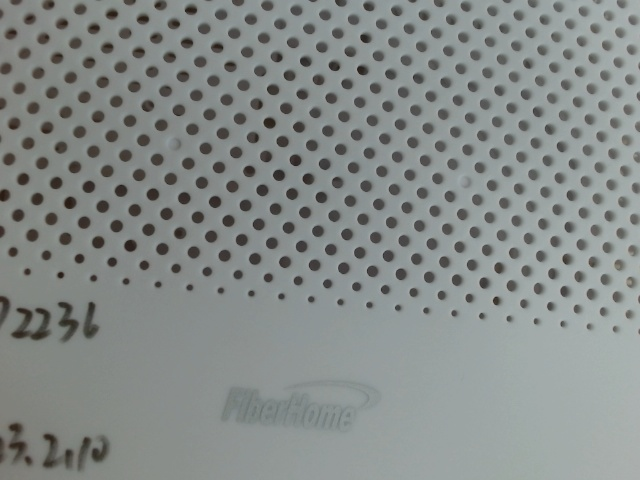AI_FiberHome: (209, 365, 392, 435)
